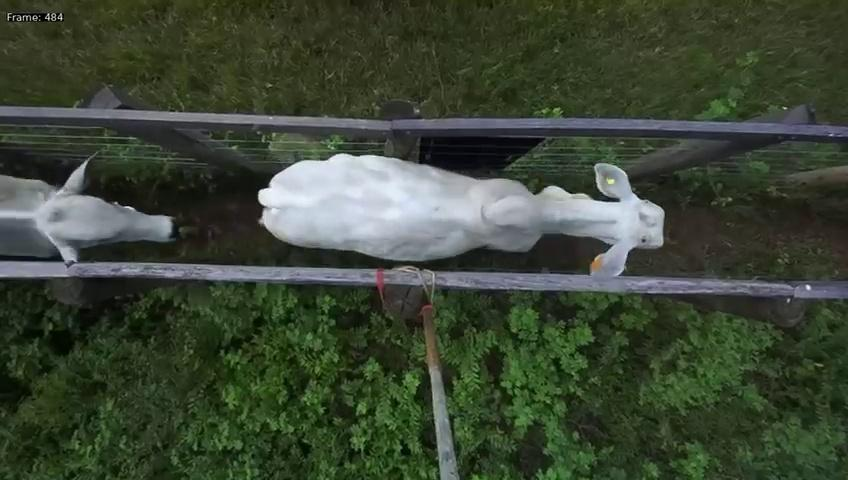cattle: (247, 130, 667, 277)
